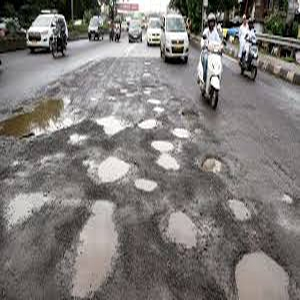pothole: (73, 196, 120, 300), (233, 250, 294, 300), (159, 207, 203, 249), (149, 139, 181, 173), (95, 155, 132, 183), (227, 192, 254, 221), (199, 153, 230, 175), (134, 177, 157, 191), (137, 118, 158, 128)
